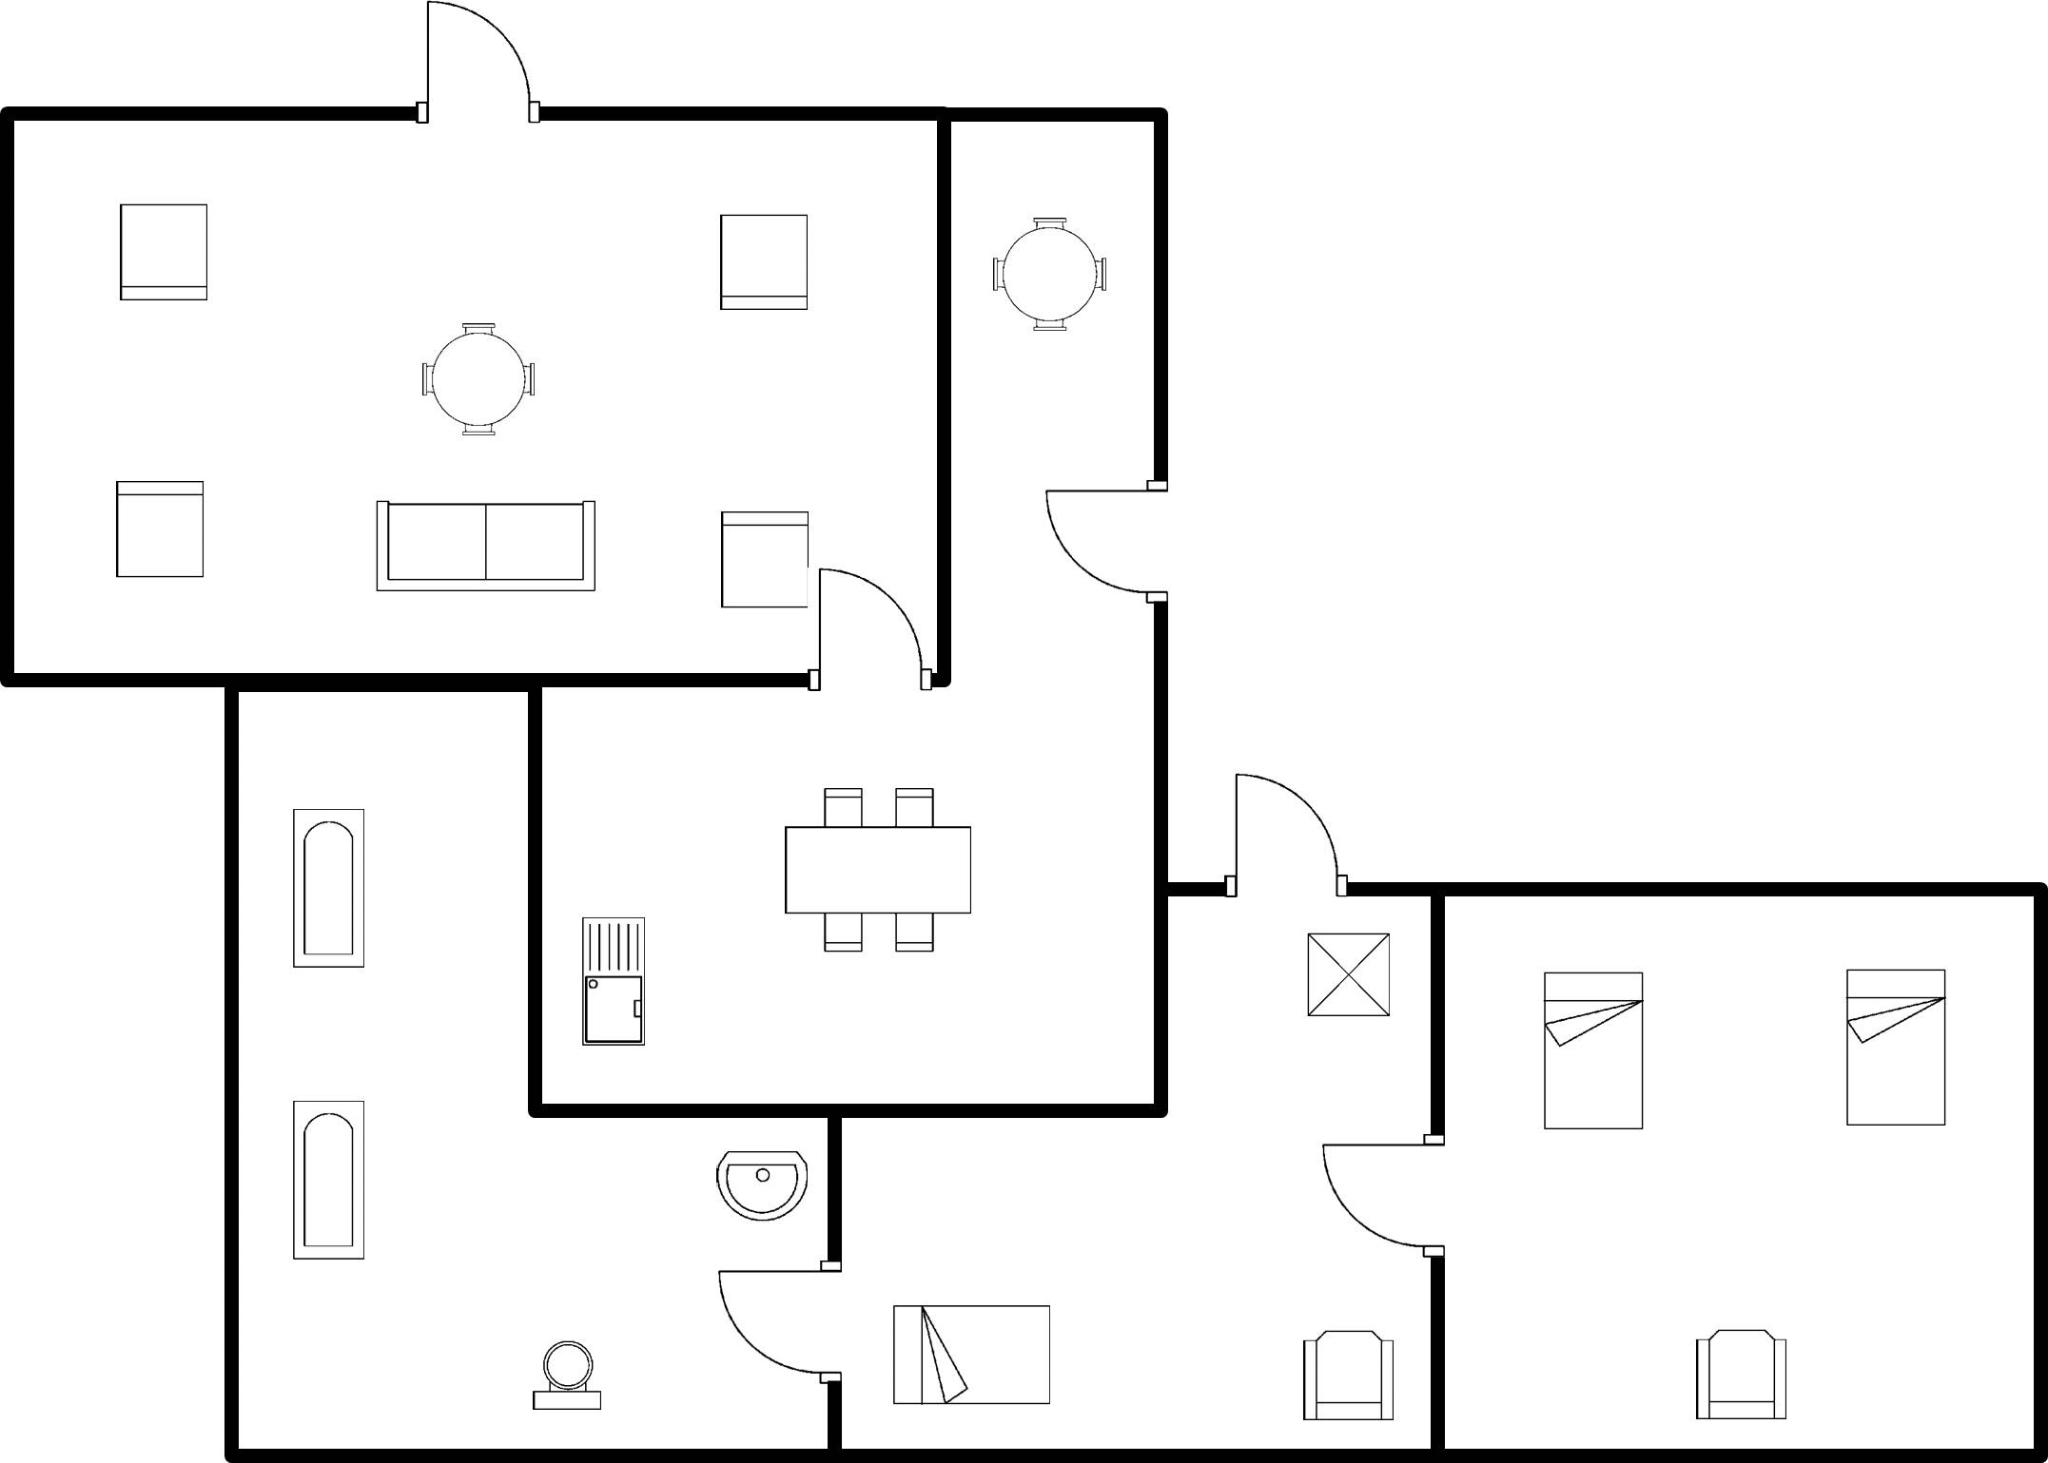bed: (880, 1290, 1067, 1415), (1833, 956, 1959, 1138), (1532, 963, 1654, 1143)
dining_table: (771, 779, 983, 961)
round_table: (981, 206, 1119, 345), (405, 310, 548, 443)
sink: (570, 910, 654, 1053)
sofa: (362, 491, 606, 602)
toilet: (522, 1332, 614, 1422)
tub: (280, 1088, 375, 1276), (283, 798, 377, 977)
